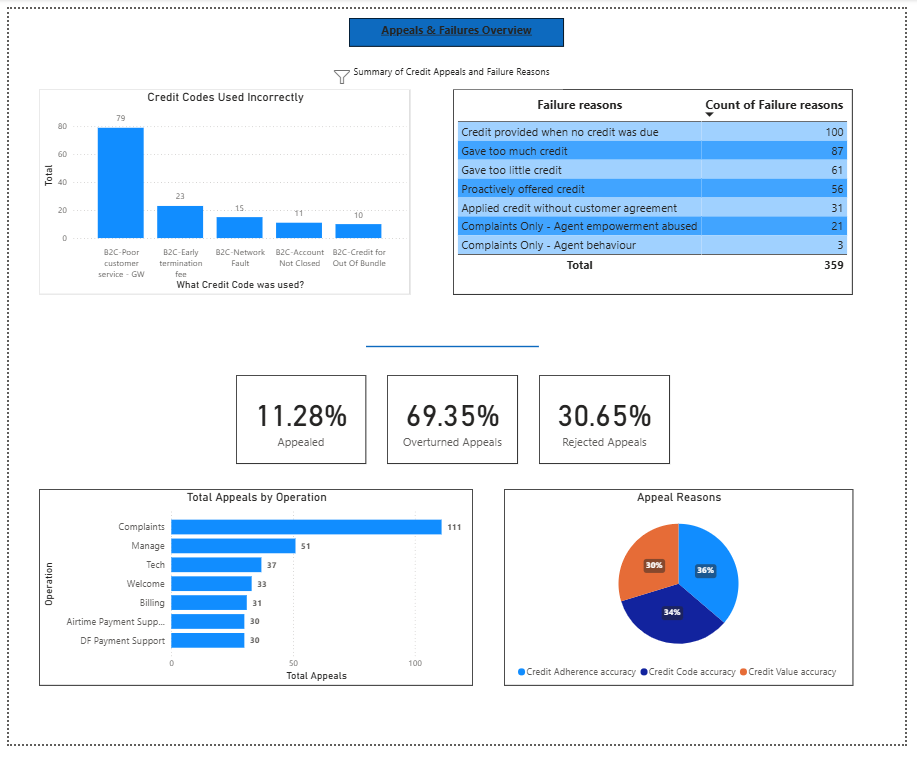

What the dashboard file says about the page in this screenshot:
{"tool":"powerbi","page":{"name":"Appeals & Failures","canvas":[1280,1050],"ordinal":1},"visuals":[{"type":"tableEx","fields":{"Values":["Credit Failure Reasons.Failure reasons","CountNonNull(Credit Failure Reasons.Failure reasons)"]},"box":[634.3,114.3,571.4,294.3],"z":0},{"type":"clusteredColumnChart","title":"Credit Codes Used Incorrectly","fields":{"Category":["Credit Monitoring July 25 Cleaned.What Credit Code was used?"],"Y":["Credit Monitoring July 25 Cleaned.Total Audits"]},"box":[42.9,114.3,531.4,294.3],"z":1000},{"type":"pieChart","title":"Appeal Reasons","fields":{"Category":["Credit Appeal Reasons.What was appealed?"],"Y":["CountNonNull(Credit Appeal Reasons.What was appealed?)"]},"box":[707.1,685.7,498.6,281.4],"z":2000},{"type":"card","fields":{"Values":["Credit Monitoring July 25 Cleaned.Appeal %"]},"box":[324.3,522.9,185.7,127.1],"z":3000,"group":"g1"},{"type":"card","fields":{"Values":["Credit Monitoring July 25 Cleaned.% Overturned Appeals"]},"box":[540,522.9,187.1,127.1],"z":4000,"group":"g1"},{"type":"card","fields":{"Values":["Credit Monitoring July 25 Cleaned.% Rejected Appeals"]},"box":[757.2,522.9,187.1,127.1],"z":5000,"group":"g1"},{"type":"barChart","fields":{"Category":["Credit Monitoring July 25 Cleaned.Operation"],"Y":["Credit Monitoring July 25 Cleaned.Total Appeals"]},"box":[42.9,685.7,620,281.4],"z":6000},{"type":"textbox","box":[485.7,12.9,307.1,41.4],"z":7000},{"type":"textbox","box":[487.1,75.7,304.3,38.6],"z":8000},{"type":"shape","box":[510,428.6,247.1,107.1],"z":8001},{"type":"group","id":"g1","title":"Group 1","box":[324.3,522.9,620,127.1],"z":8002}]}

Visuals, with their boxes in screenshot pixels (x1, y1, x2, y2), scaled from the page's 1280x1050 canvas onto the 917x762 screenshot:
tableEx - Credit Failure Reasons.Failure reasons x CountNonNull(Credit Failure Reasons.Failure reasons): pyautogui.locateOnScreen(454, 83, 864, 297)
"Credit Codes Used Incorrectly" clusteredColumnChart: pyautogui.locateOnScreen(31, 83, 411, 297)
"Appeal Reasons" pieChart: pyautogui.locateOnScreen(507, 498, 864, 702)
card - Credit Monitoring July 25 Cleaned.Appeal %: pyautogui.locateOnScreen(232, 379, 365, 472)
card - Credit Monitoring July 25 Cleaned.% Overturned Appeals: pyautogui.locateOnScreen(387, 379, 521, 472)
card - Credit Monitoring July 25 Cleaned.% Rejected Appeals: pyautogui.locateOnScreen(542, 379, 677, 472)
barChart - Credit Monitoring July 25 Cleaned.Operation x Credit Monitoring July 25 Cleaned.Total Appeals: pyautogui.locateOnScreen(31, 498, 475, 702)
textbox: pyautogui.locateOnScreen(348, 9, 568, 39)
textbox: pyautogui.locateOnScreen(349, 55, 567, 83)
shape: pyautogui.locateOnScreen(365, 311, 542, 389)
"Group 1" group: pyautogui.locateOnScreen(232, 379, 677, 472)
